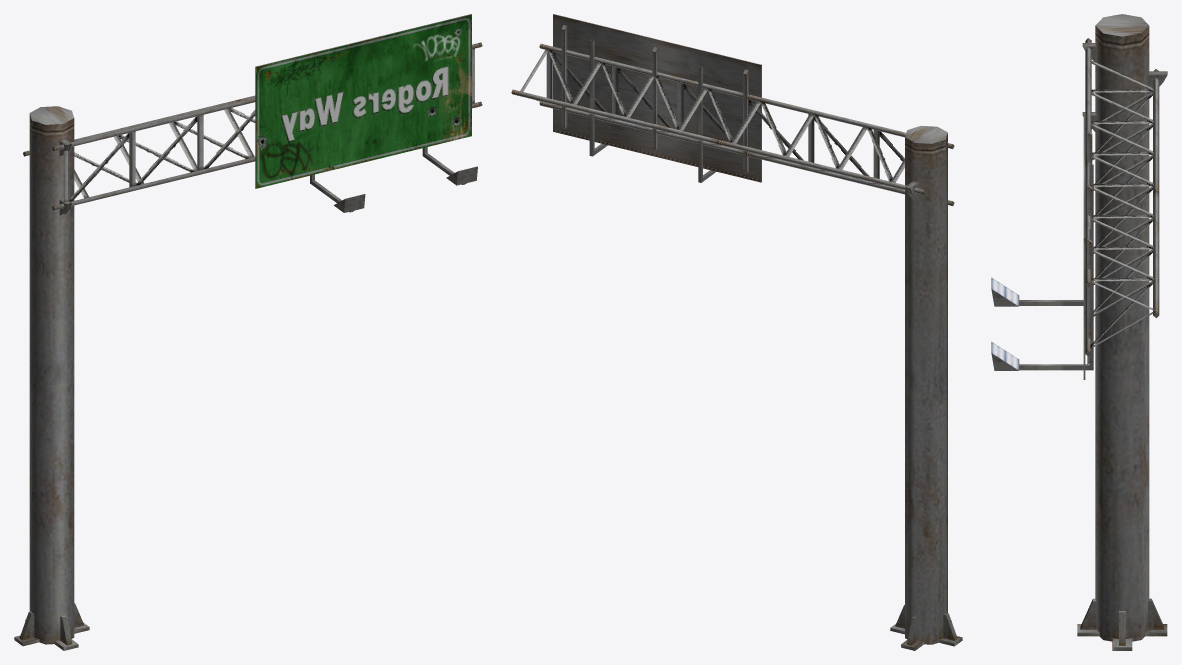
File: street_span.fbx
3 views of the same model, side by side, from view 1: azimuth 30°, elevation 25°; view 2: azimuth 150°, elevation 25°; view 3: azimuth 270°, elevation 25° (orthographic). The views are drawn at different scales.
Parts seen in each view (by area): view 1: mesh_0, mesh_1, mesh_2, mesh_3; view 2: mesh_0, mesh_2, mesh_3; view 3: mesh_0, mesh_2, mesh_3, mesh_4.
Part boxes in pixels (x1,y1,x2,y2): mesh_0: [14, 14, 482, 650]; mesh_1: [256, 14, 471, 188]; mesh_2: [63, 48, 474, 202]; mesh_3: [310, 147, 477, 212]; mesh_0: [511, 14, 962, 650]; mesh_2: [520, 49, 904, 184]; mesh_3: [589, 39, 716, 182]; mesh_0: [1077, 14, 1167, 650]; mesh_2: [1090, 61, 1154, 348]; mesh_3: [991, 164, 1093, 370]; mesh_4: [991, 277, 1019, 370].
Bounding box in the file's own units: 784 × 894 × 229.
4 materials, 4 textured.
